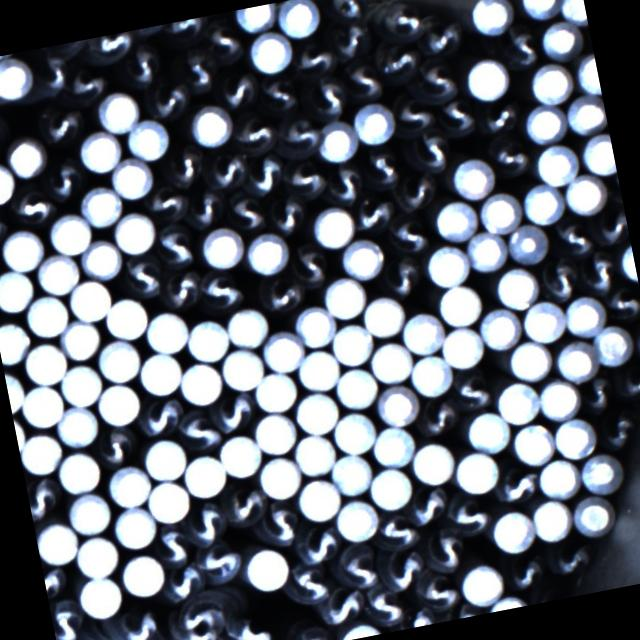tool: (434, 322, 490, 373), (402, 350, 454, 402), (490, 376, 542, 427), (182, 314, 233, 365), (364, 462, 414, 514), (448, 152, 498, 204), (434, 281, 486, 331), (396, 307, 448, 357), (16, 427, 66, 478), (289, 387, 340, 437), (452, 447, 502, 498), (530, 140, 582, 189), (526, 59, 576, 109), (100, 292, 150, 342), (492, 262, 542, 312), (18, 337, 68, 387), (240, 544, 290, 594), (135, 346, 184, 397), (65, 274, 114, 324), (505, 335, 555, 384), (508, 419, 557, 469), (518, 296, 568, 345), (462, 54, 512, 103), (408, 438, 457, 487), (463, 408, 512, 457), (456, 560, 505, 609), (246, 27, 296, 75), (534, 454, 582, 504), (74, 573, 124, 621), (18, 379, 66, 429), (94, 335, 142, 385), (140, 434, 190, 482), (332, 496, 382, 544), (46, 208, 94, 258), (76, 180, 124, 230), (52, 446, 102, 494), (58, 359, 106, 409), (66, 488, 114, 538), (242, 228, 290, 278), (358, 290, 406, 340), (34, 516, 80, 568), (107, 154, 155, 203), (93, 380, 141, 429), (181, 452, 229, 501), (249, 408, 297, 457), (176, 359, 224, 408), (122, 114, 170, 163), (93, 88, 142, 136), (105, 462, 153, 511), (328, 408, 376, 457), (488, 507, 536, 556), (422, 240, 471, 288), (527, 495, 574, 545), (23, 290, 70, 340), (255, 452, 302, 502), (321, 272, 368, 322), (215, 430, 262, 480), (462, 228, 510, 276), (368, 422, 416, 470), (110, 504, 158, 552), (518, 180, 566, 228), (72, 532, 120, 580), (54, 402, 102, 450), (34, 248, 82, 296), (560, 171, 608, 219), (110, 208, 158, 256), (327, 448, 375, 496), (476, 188, 524, 236), (349, 101, 397, 149), (589, 322, 637, 370), (336, 234, 384, 282), (218, 343, 265, 392), (560, 90, 609, 137), (0, 225, 47, 274), (187, 102, 234, 151), (432, 196, 481, 243), (250, 368, 300, 414), (143, 307, 189, 357), (503, 220, 550, 268), (550, 414, 598, 461), (560, 292, 608, 339), (577, 449, 624, 497), (258, 328, 305, 376), (295, 345, 341, 394), (519, 100, 568, 146), (118, 553, 165, 600), (146, 478, 192, 526), (56, 314, 102, 362), (78, 234, 124, 282), (76, 128, 124, 174), (296, 474, 342, 522), (534, 376, 582, 422), (291, 430, 337, 478), (314, 119, 360, 167), (328, 319, 374, 367), (290, 302, 336, 350), (308, 204, 356, 250), (551, 338, 598, 384), (569, 492, 615, 539), (4, 132, 49, 180), (536, 17, 584, 62), (373, 382, 419, 428), (223, 304, 270, 349), (198, 226, 245, 271), (274, 0, 322, 40), (466, 0, 514, 38), (0, 265, 37, 314), (578, 132, 617, 178), (0, 317, 34, 366), (0, 56, 33, 103), (571, 50, 602, 96), (235, 3, 278, 35), (515, 0, 563, 24), (555, 0, 588, 27), (0, 158, 16, 207)
tool_b: (333, 535, 383, 594), (193, 539, 250, 590), (253, 498, 304, 551), (404, 130, 459, 178), (490, 464, 545, 512), (382, 208, 434, 258), (281, 557, 334, 606), (184, 500, 232, 553), (390, 171, 444, 218), (150, 219, 198, 270), (340, 57, 389, 106), (157, 145, 207, 193), (176, 41, 218, 96), (282, 156, 330, 204), (451, 368, 497, 418), (27, 49, 72, 100), (180, 182, 227, 230), (382, 551, 429, 599), (304, 72, 350, 121), (157, 268, 206, 314), (293, 522, 344, 566), (424, 527, 468, 578), (291, 242, 334, 294), (224, 188, 270, 236), (210, 388, 258, 434), (374, 508, 420, 556), (442, 493, 490, 539), (383, 253, 428, 302), (176, 411, 225, 456), (150, 522, 194, 572), (95, 422, 142, 468), (118, 255, 164, 302), (259, 272, 306, 318), (402, 483, 449, 529), (44, 156, 87, 206), (140, 180, 190, 223), (390, 92, 436, 138), (433, 94, 479, 140), (144, 79, 193, 122), (314, 586, 364, 628), (278, 112, 323, 158), (267, 192, 312, 238), (413, 397, 460, 441), (576, 253, 620, 300), (8, 187, 56, 230), (420, 16, 468, 59), (232, 110, 278, 154), (539, 262, 583, 308), (136, 398, 184, 440), (546, 540, 596, 580), (242, 152, 285, 198), (350, 192, 396, 235), (508, 549, 550, 596), (373, 41, 421, 82), (25, 474, 65, 523), (39, 105, 84, 148), (203, 18, 246, 63), (489, 136, 531, 182), (418, 570, 464, 612), (159, 561, 207, 601), (204, 152, 247, 196), (96, 610, 159, 640), (364, 149, 406, 194), (258, 70, 300, 114), (292, 36, 336, 78), (226, 486, 268, 530), (599, 407, 640, 452), (331, 22, 373, 65), (420, 60, 460, 105), (379, 0, 425, 39), (198, 270, 240, 312), (478, 96, 520, 138), (503, 27, 544, 70), (176, 596, 226, 631), (327, 160, 365, 206), (366, 584, 404, 630), (217, 70, 258, 112), (123, 44, 162, 88), (558, 218, 596, 263), (580, 371, 619, 414), (603, 281, 640, 325), (49, 600, 89, 640), (66, 66, 108, 104), (592, 212, 632, 251), (228, 609, 276, 640), (89, 30, 136, 61), (42, 562, 75, 604), (159, 620, 219, 640), (328, 0, 372, 27), (615, 362, 640, 406), (167, 16, 210, 40), (287, 621, 340, 640), (395, 606, 432, 630), (0, 108, 12, 161), (0, 208, 11, 246)
